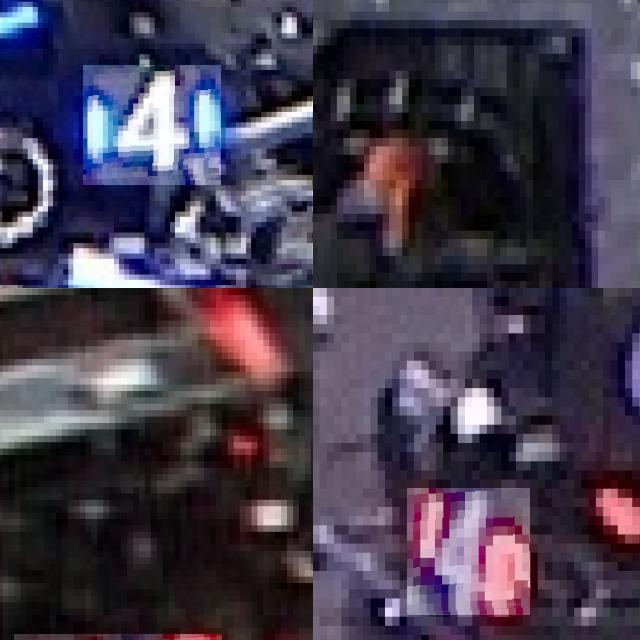B4: (83, 65, 221, 185)
R4: (407, 488, 530, 616)
